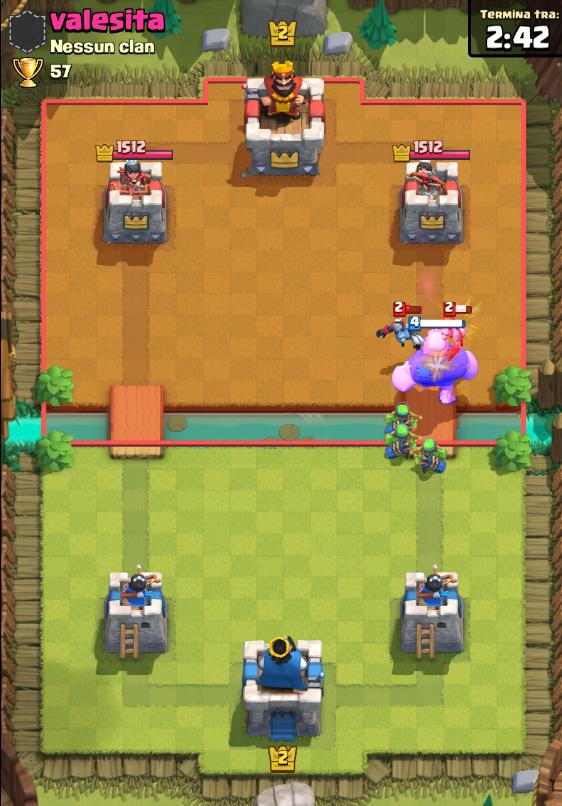ally_giant: (392, 318, 486, 408)
ally_spear_goblin: (384, 408, 420, 458), (402, 440, 445, 477)
enemy_minion: (386, 300, 423, 350)
